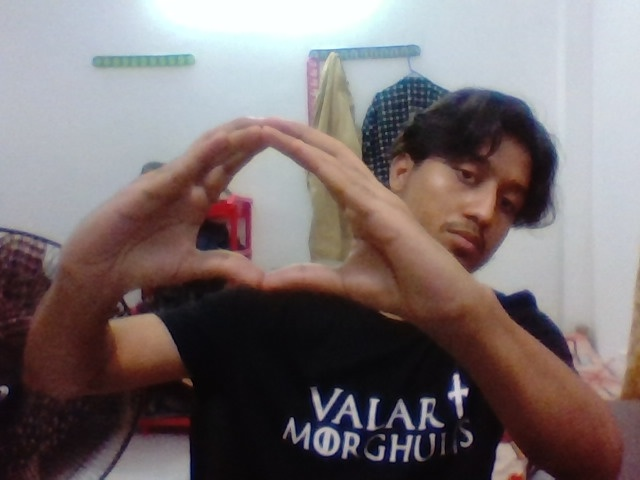O: (114, 94, 411, 318)
